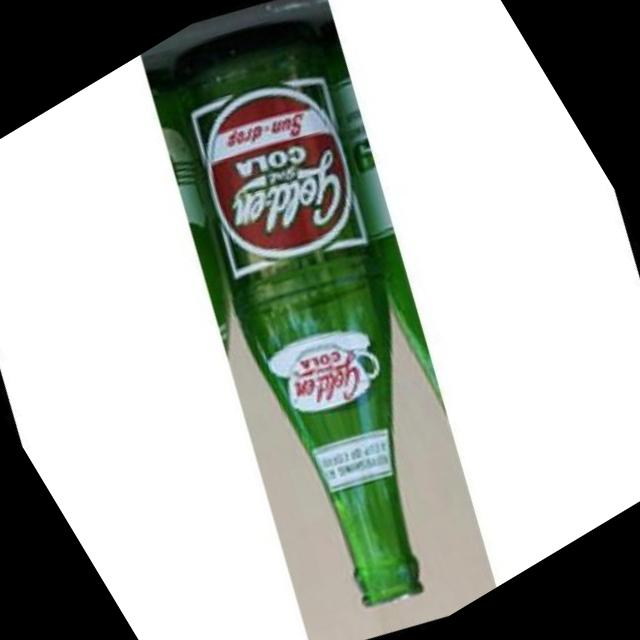BotolKaca: (72, 0, 606, 624)
